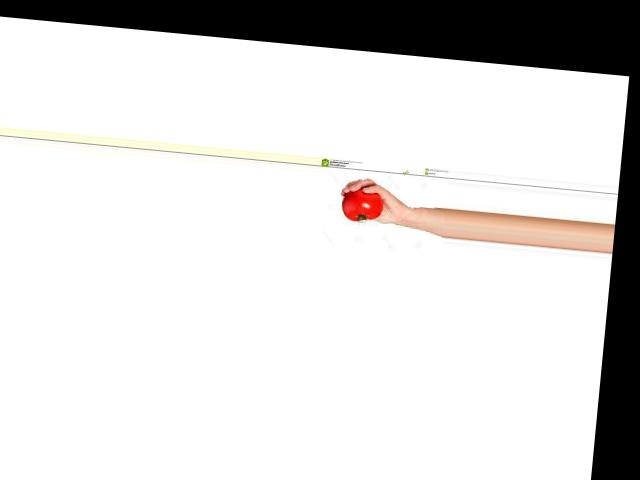tomato: (341, 186, 385, 223)
